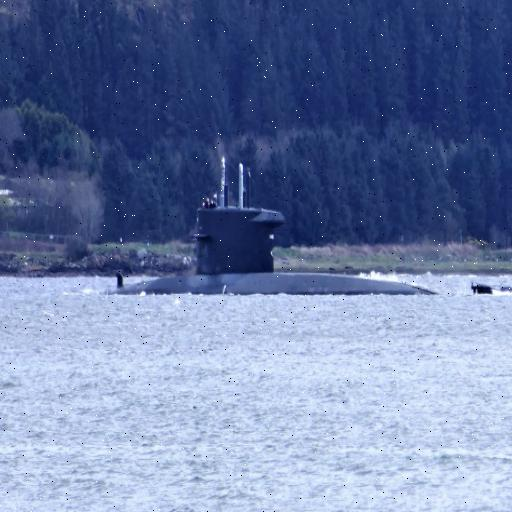submarine: (100, 162, 512, 291)
